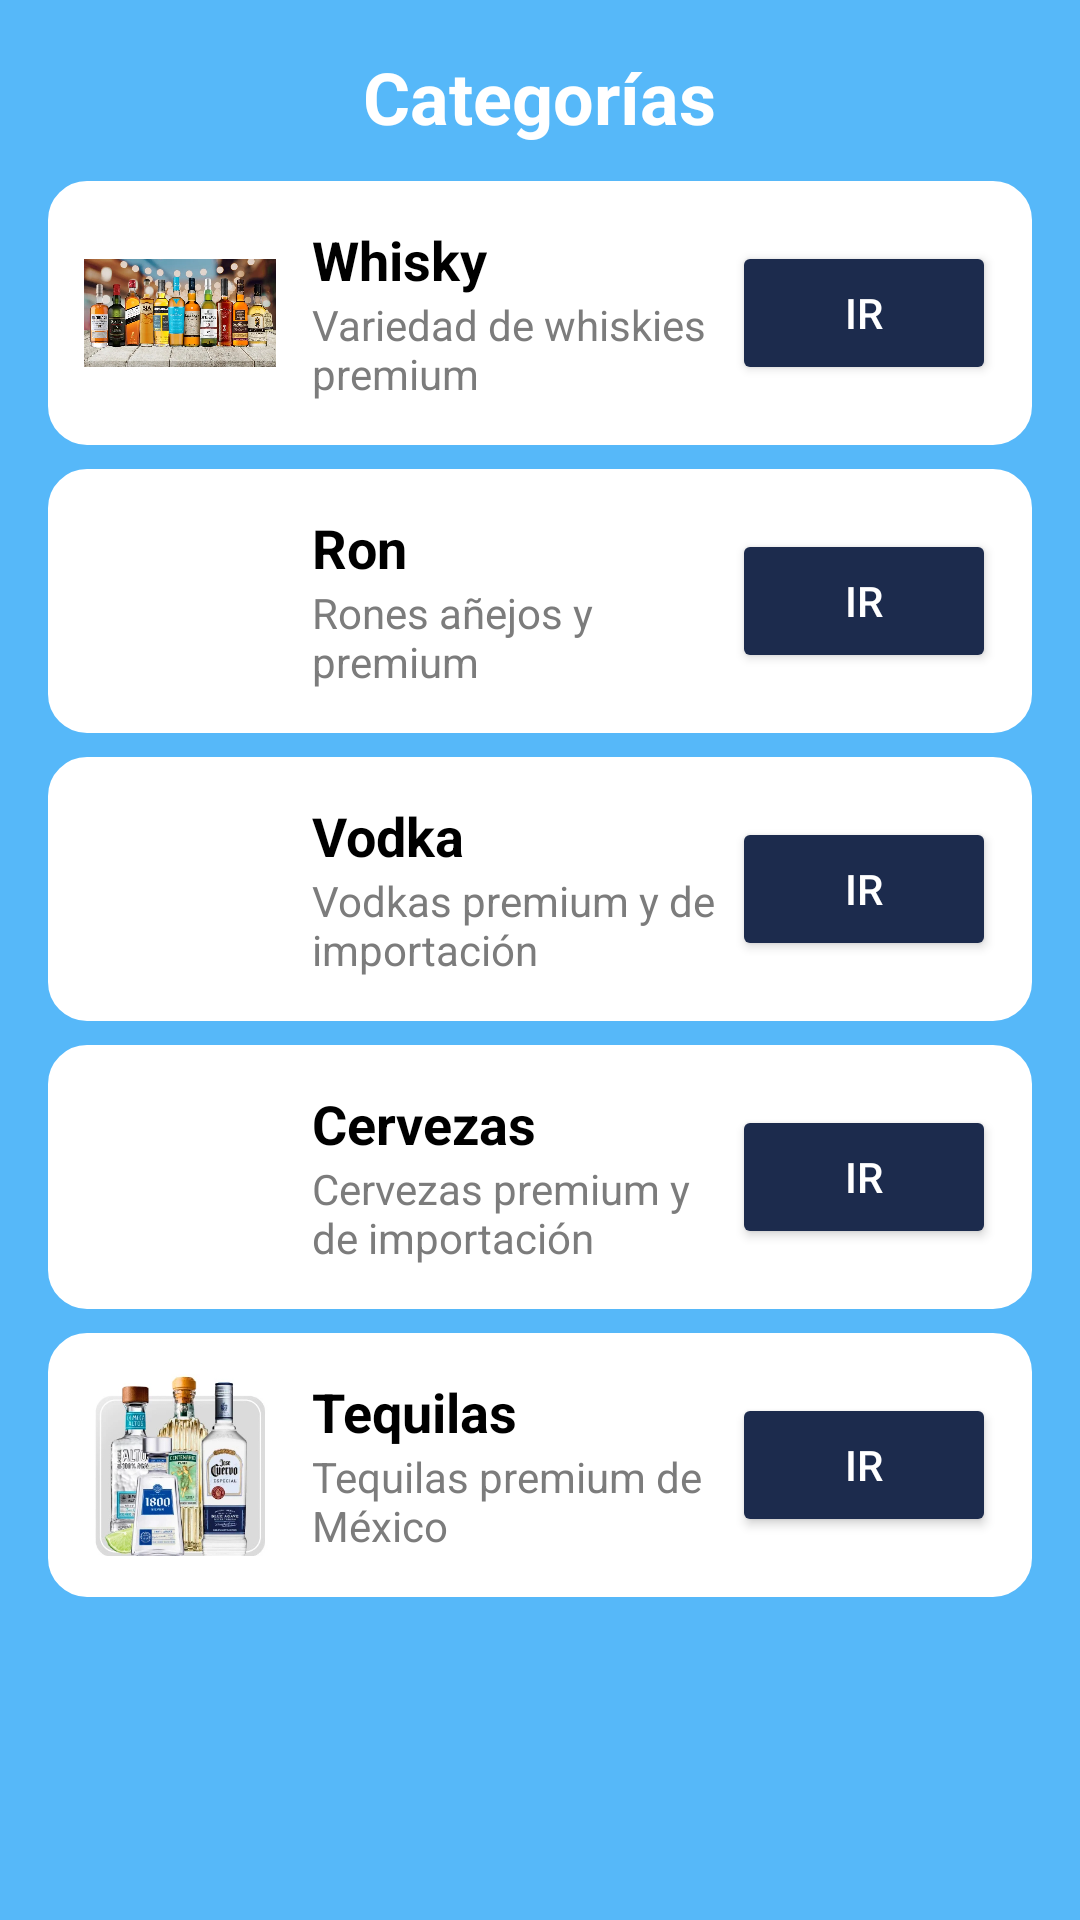

Where to tap for icons on this 1080×1920 app screen, as (x,y):
whiskies categories: (180,313)
